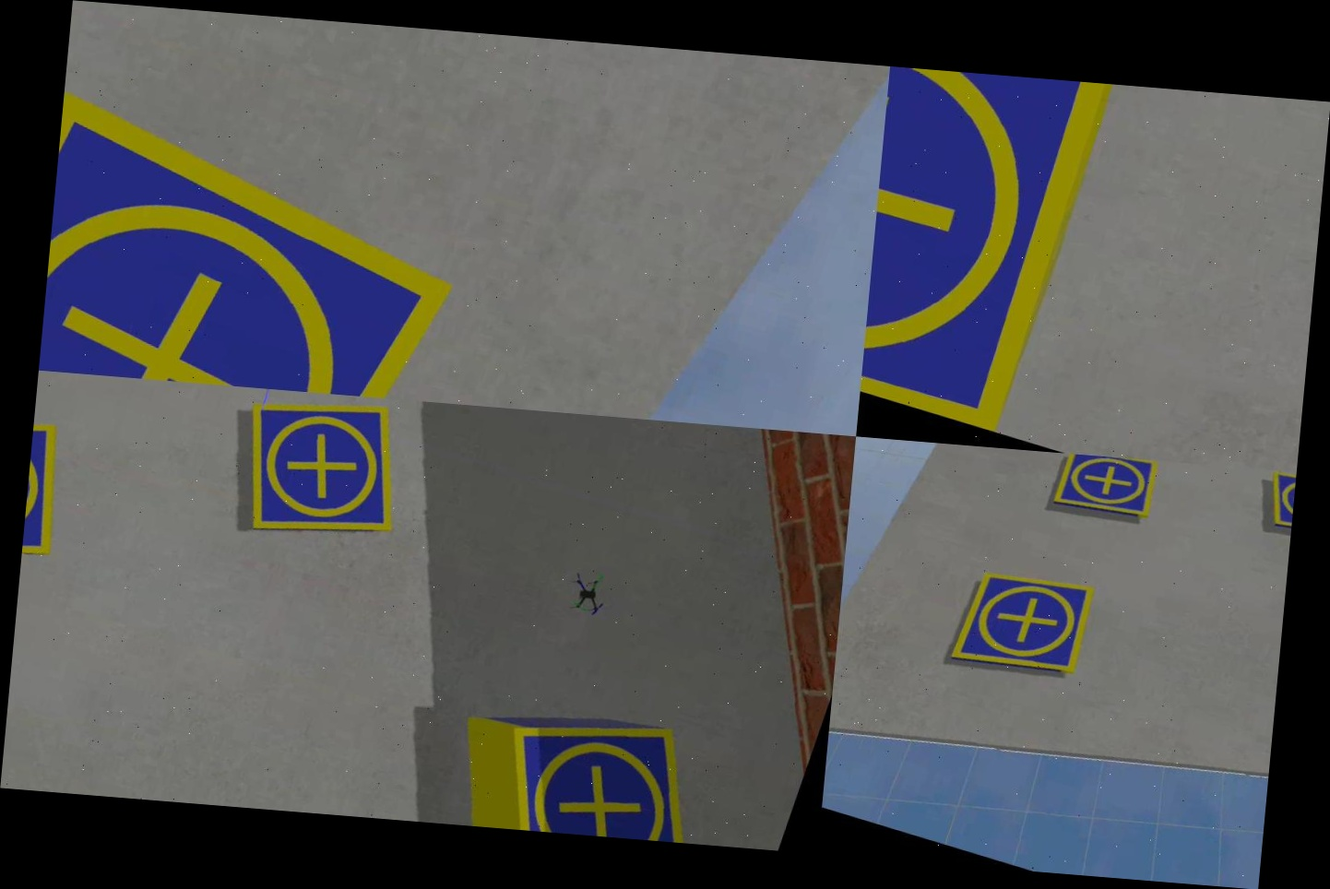small_base: (39, 77, 489, 405), (858, 66, 1121, 437), (463, 683, 742, 846), (214, 385, 430, 567), (947, 555, 1101, 694), (18, 397, 91, 596), (1043, 452, 1165, 532), (1253, 469, 1296, 547)
